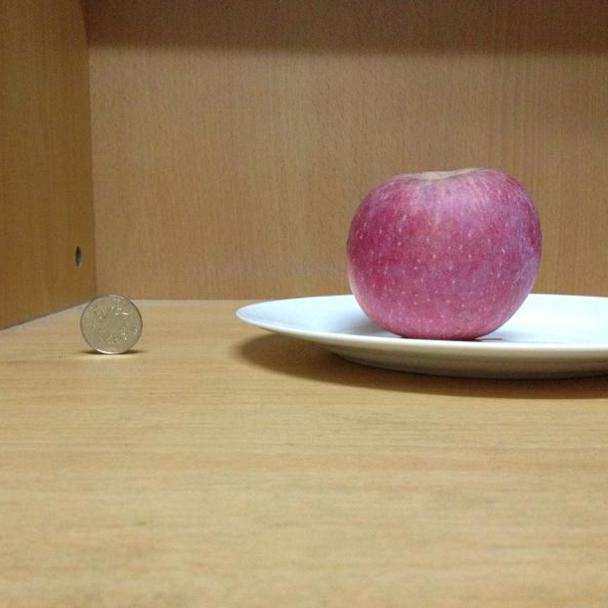apple: (344, 163, 544, 340)
